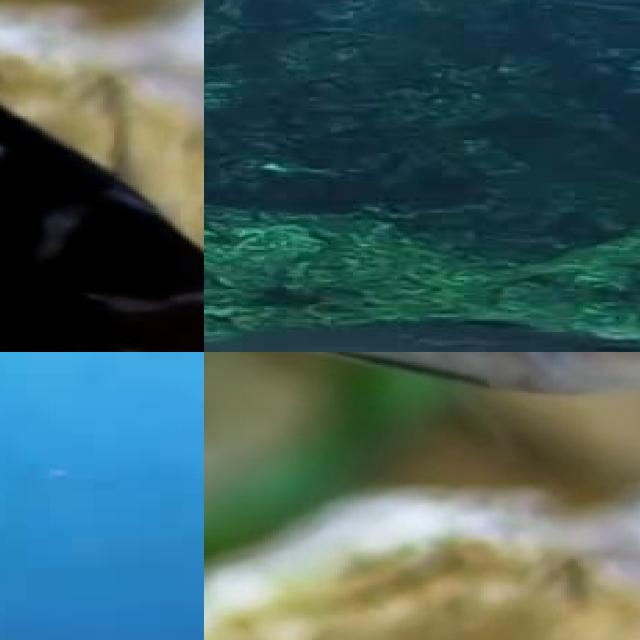fish: (0, 0, 204, 352), (204, 352, 640, 406)
